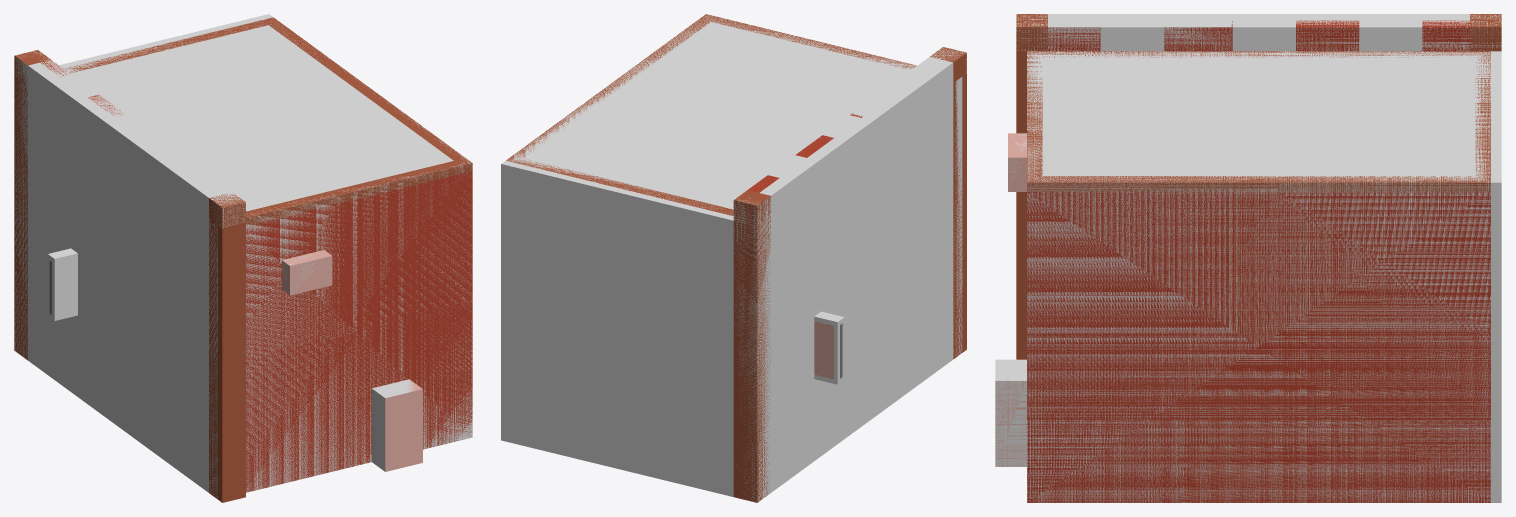
File: Building_B2_Home08_1_01.FBX
The picture shows the model from 3 angles, left to right: view 1: azimuth 30°, elevation 25°; view 2: azimuth 150°, elevation 25°; view 3: azimuth 270°, elevation 25°; orthographic projection. The views are drawn at different scales.
Parts seen in each view (by area): view 1: Building_B2_Home08_Damage_1_01, Building_B2_Home08_Live_1_01; view 2: Building_B2_Home08_Damage_1_01, Building_B2_Home08_Live_1_01; view 3: Building_B2_Home08_Damage_1_01, Building_B2_Home08_Live_1_01.
Boxes of the visible parts, left/top/right/bottom form: Building_B2_Home08_Damage_1_01: left=14, top=14, right=472, bottom=499; Building_B2_Home08_Live_1_01: left=14, top=17, right=472, bottom=502; Building_B2_Home08_Damage_1_01: left=501, top=14, right=966, bottom=501; Building_B2_Home08_Live_1_01: left=506, top=14, right=966, bottom=502; Building_B2_Home08_Damage_1_01: left=995, top=14, right=1501, bottom=502; Building_B2_Home08_Live_1_01: left=995, top=14, right=1501, bottom=502.
Bounding box in the file's own units: 7.1 × 7.2 × 9.6.
